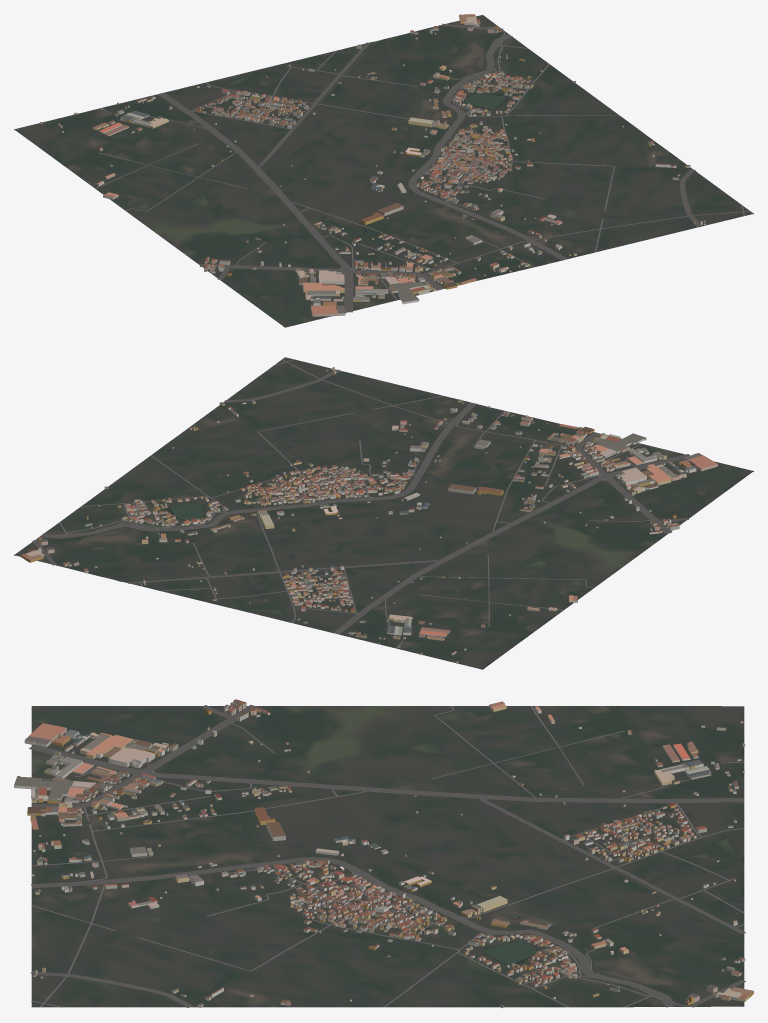
3 renders of one model, top to bottom at view 1: azimuth 30°, elevation 25°; view 2: azimuth 150°, elevation 25°; view 3: azimuth 270°, elevation 25°, orthographic. The views are drawn at different scales.
Parts seen in each view (by area): view 1: ground, buildings, roads, water; view 2: ground, buildings, roads, water; view 3: ground, buildings, roads, water.
Boxes of the visible parts, x1,y1,x2,y2 form: ground: [14, 15, 753, 327]; buildings: [40, 14, 705, 316]; roads: [95, 23, 750, 312]; water: [319, 40, 505, 115]; ground: [14, 357, 753, 669]; buildings: [21, 367, 717, 662]; roads: [32, 359, 689, 648]; water: [119, 504, 275, 581]; ground: [31, 706, 744, 1007]; buildings: [14, 699, 753, 1008]; roads: [29, 705, 745, 1007]; water: [484, 870, 744, 963].
Bounding box in the file's own units: 1414 × 17.74 × 1456.
